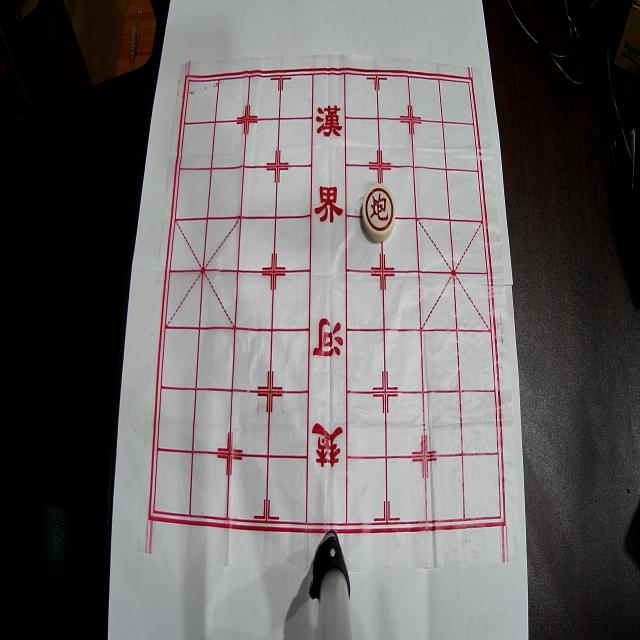red-cannon: (362, 184, 396, 242)
